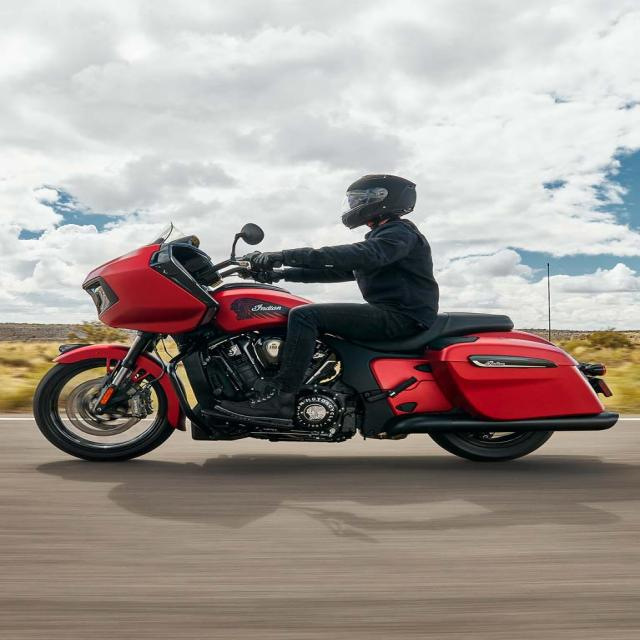motorcycle: (34, 175, 616, 460)
